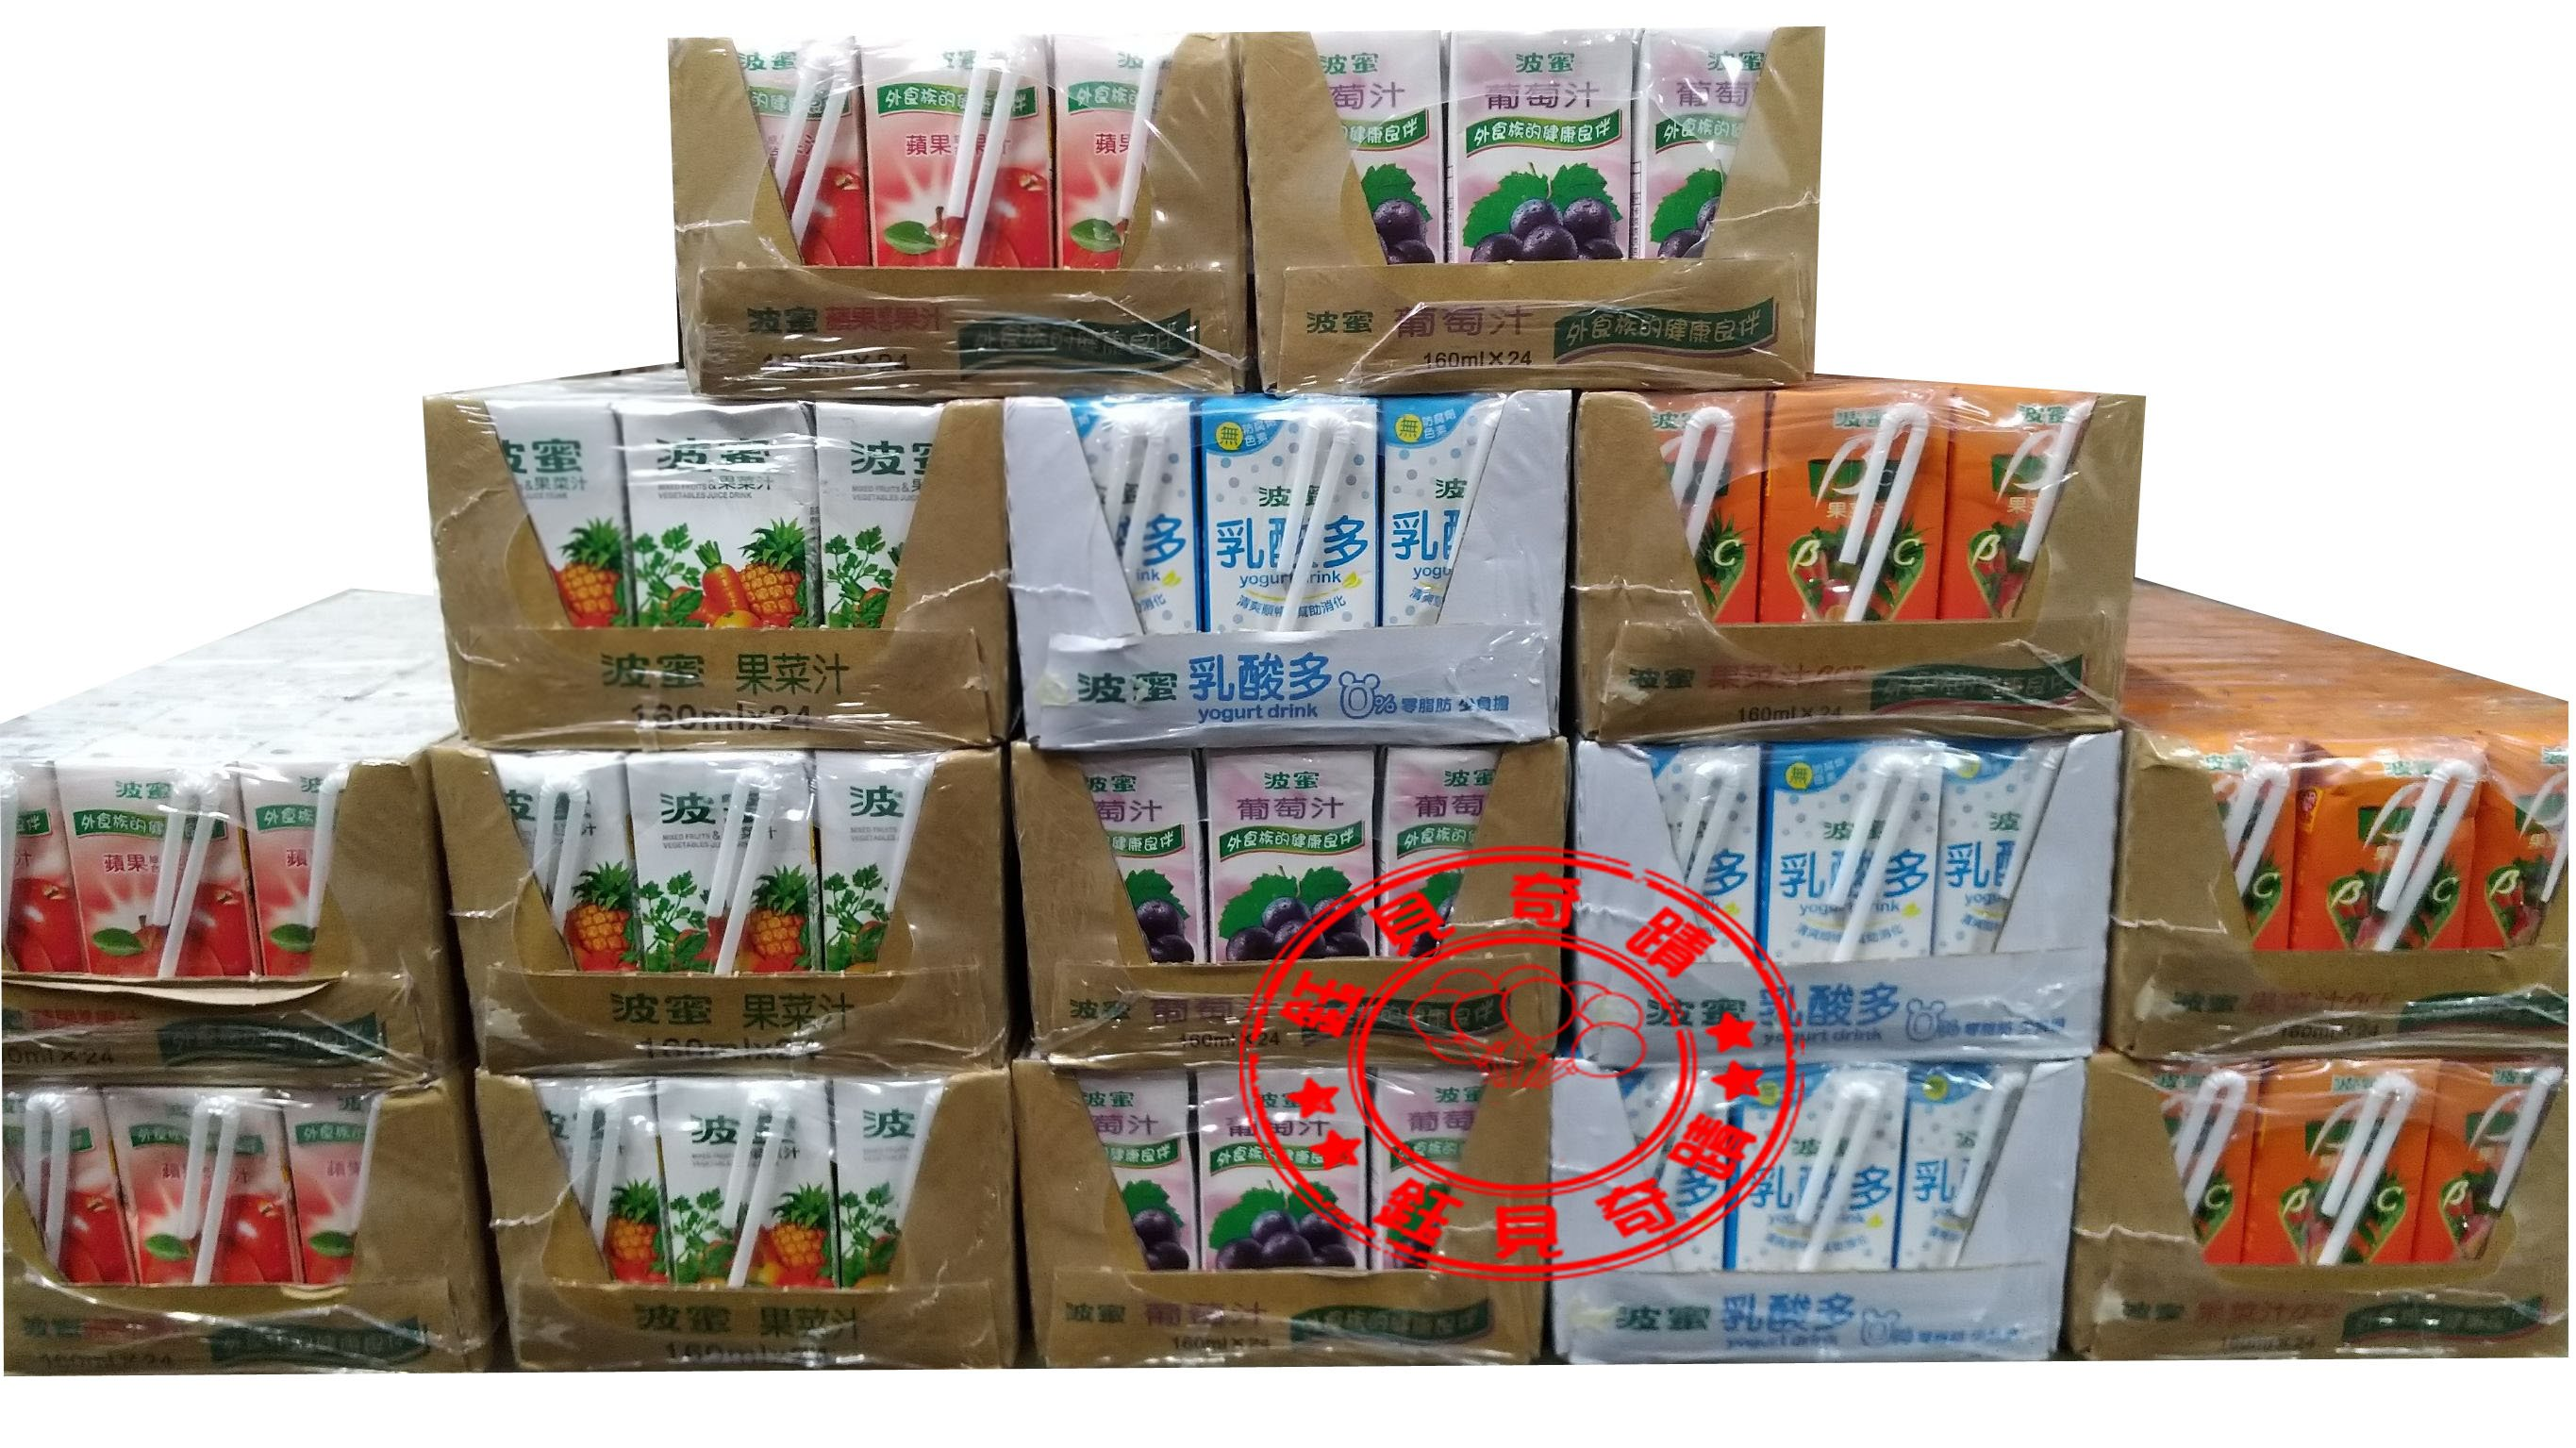vegetables juice: (623, 398, 830, 682), (610, 736, 816, 1020), (646, 1080, 851, 1363)
